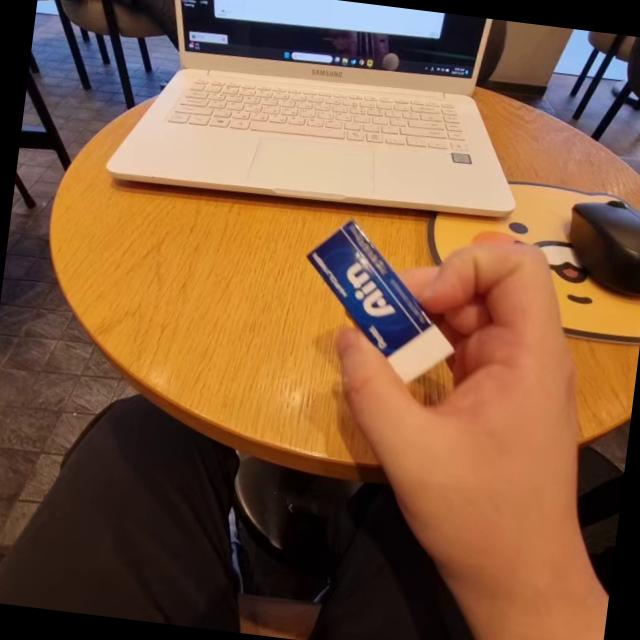eraser: (286, 210, 476, 399)
grab_eraser: (266, 182, 618, 614)
mouse: (558, 182, 640, 307)
